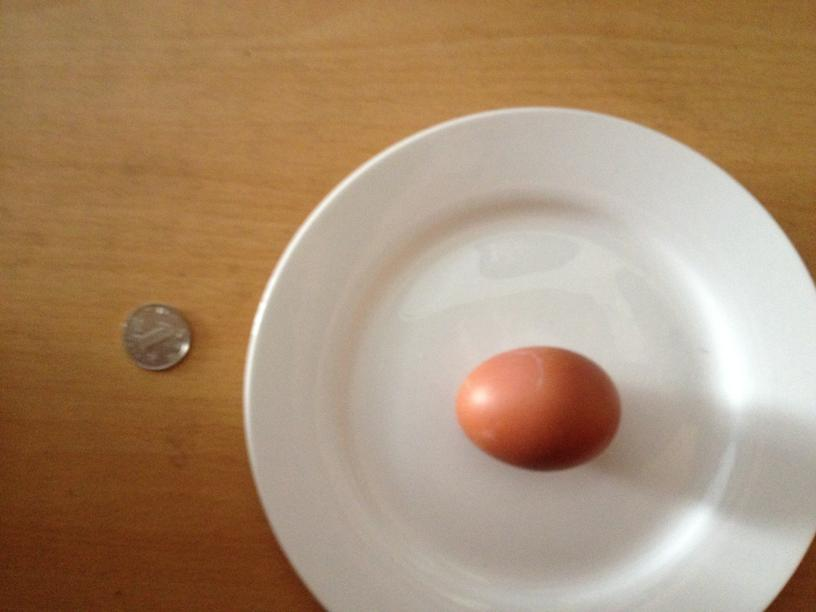coin: (119, 299, 192, 370)
egg: (456, 344, 621, 469)
